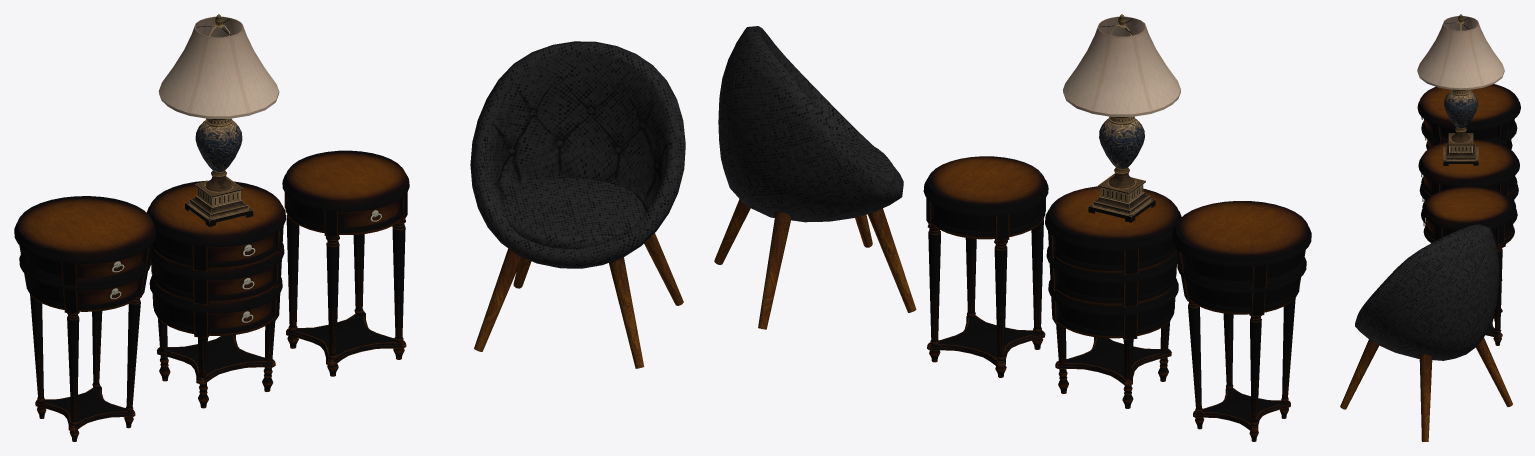
The model's file is chairsscene.fbx.
3 renders of one model, left to right at view 1: azimuth 30°, elevation 25°; view 2: azimuth 150°, elevation 25°; view 3: azimuth 270°, elevation 25°, orthographic. The views are drawn at different scales.
Parts seen in each view (by area): view 1: chairlegs_low.001, endtable1 top _low.006, endtable1 top _low.003, endtable1 top _low, lampscrew_low.001; view 2: chairlegs_low.001, endtable1 top _low.006, endtable1 top _low.003, endtable1 top _low, lampscrew_low.001; view 3: chairlegs_low.001, lampscrew_low.001, endtable1 top _low, endtable1 top _low.006, endtable1 top _low.003.
Boxes of the visible parts, x1,y1,x2,y2 form: chairlegs_low.001: (470, 41, 685, 368); endtable1 top _low.006: (146, 180, 286, 408); endtable1 top _low.003: (14, 196, 156, 441); endtable1 top _low: (282, 150, 409, 376); lampscrew_low.001: (158, 14, 279, 226); chairlegs_low.001: (714, 26, 916, 329); endtable1 top _low.006: (1045, 186, 1181, 408); endtable1 top _low.003: (1172, 201, 1311, 441); endtable1 top _low: (923, 156, 1048, 377); lampscrew_low.001: (1063, 14, 1180, 222); chairlegs_low.001: (1340, 224, 1512, 441); lampscrew_low.001: (1417, 14, 1504, 165); endtable1 top _low: (1423, 186, 1515, 345); endtable1 top _low.006: (1418, 139, 1519, 280); endtable1 top _low.003: (1417, 84, 1520, 149).
Size of the model in its own units: 287 by 166 by 98.44.
